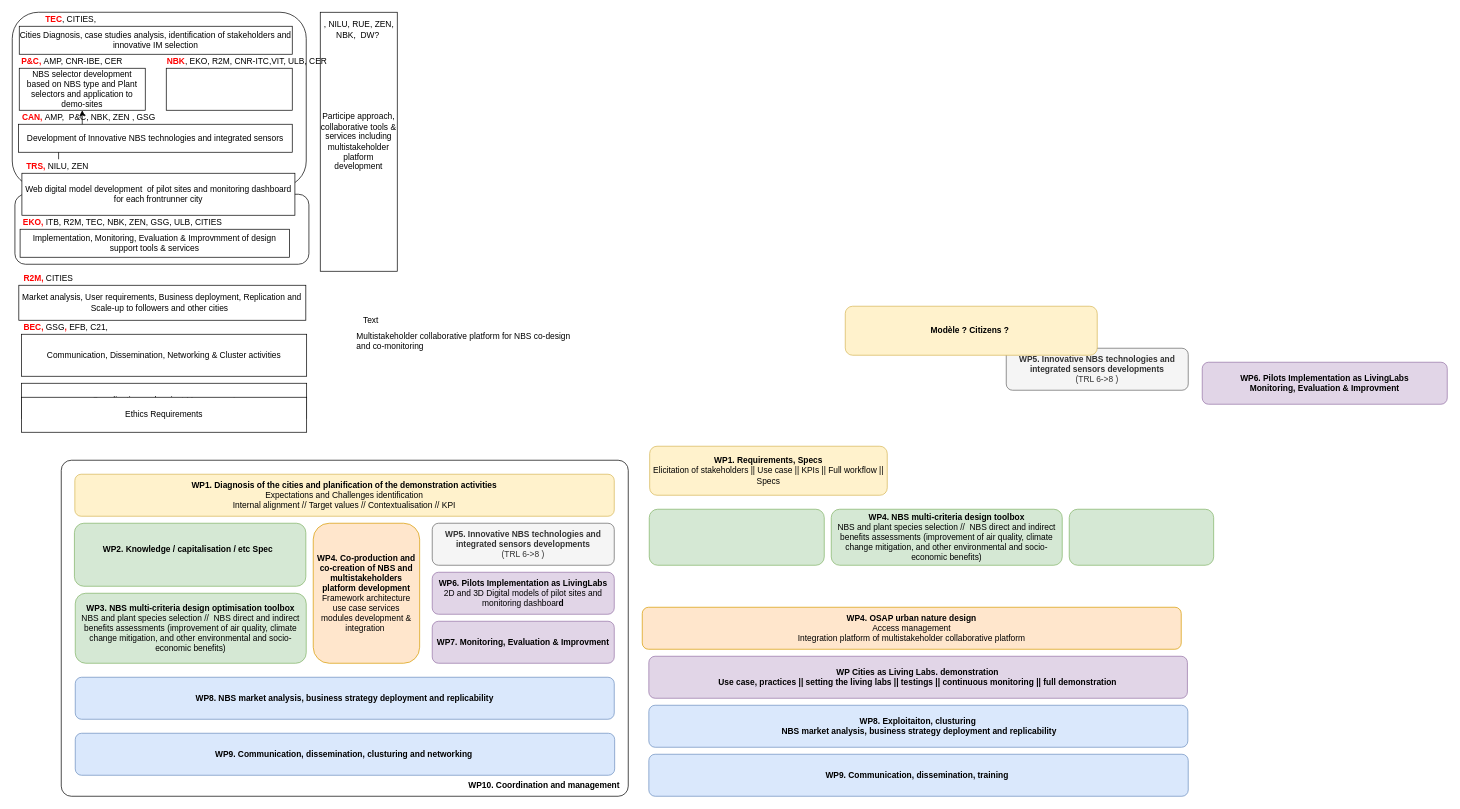
The diagram is 1460 pixels wide and 809 high, and some of its shapes have lost their labels. The shapes that lost their labels are listed below. From the top down, each one's centre as x and y in pixels, then its label:
point (229, 89): Evaluation of KPIs and NBS Multicriteria Design Optimisation for each demo-site
point (736, 537): WP3. TEchnical developments NBS Sensors Software
point (1141, 537): WP4. Collaborative design platform Visualization Dashboard
